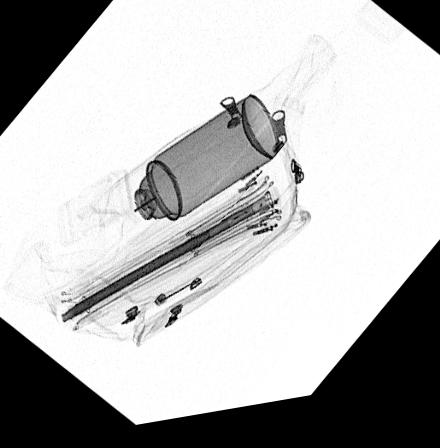Sprayer: (106, 101, 278, 249)
